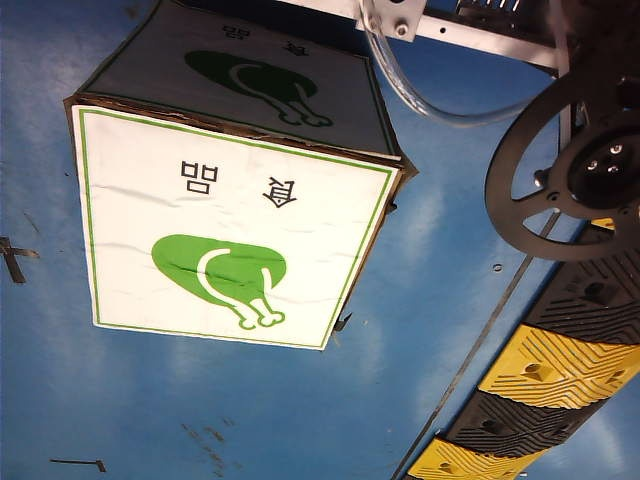Cube_food: (130, 158, 333, 333)
